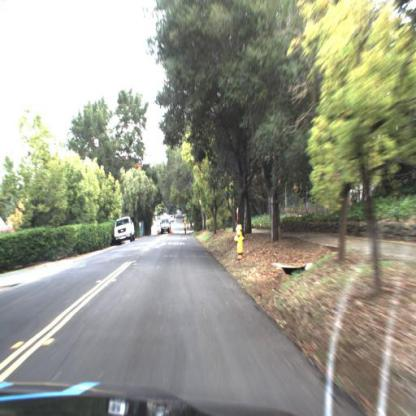car: (114, 214, 137, 248), (161, 214, 172, 236)
